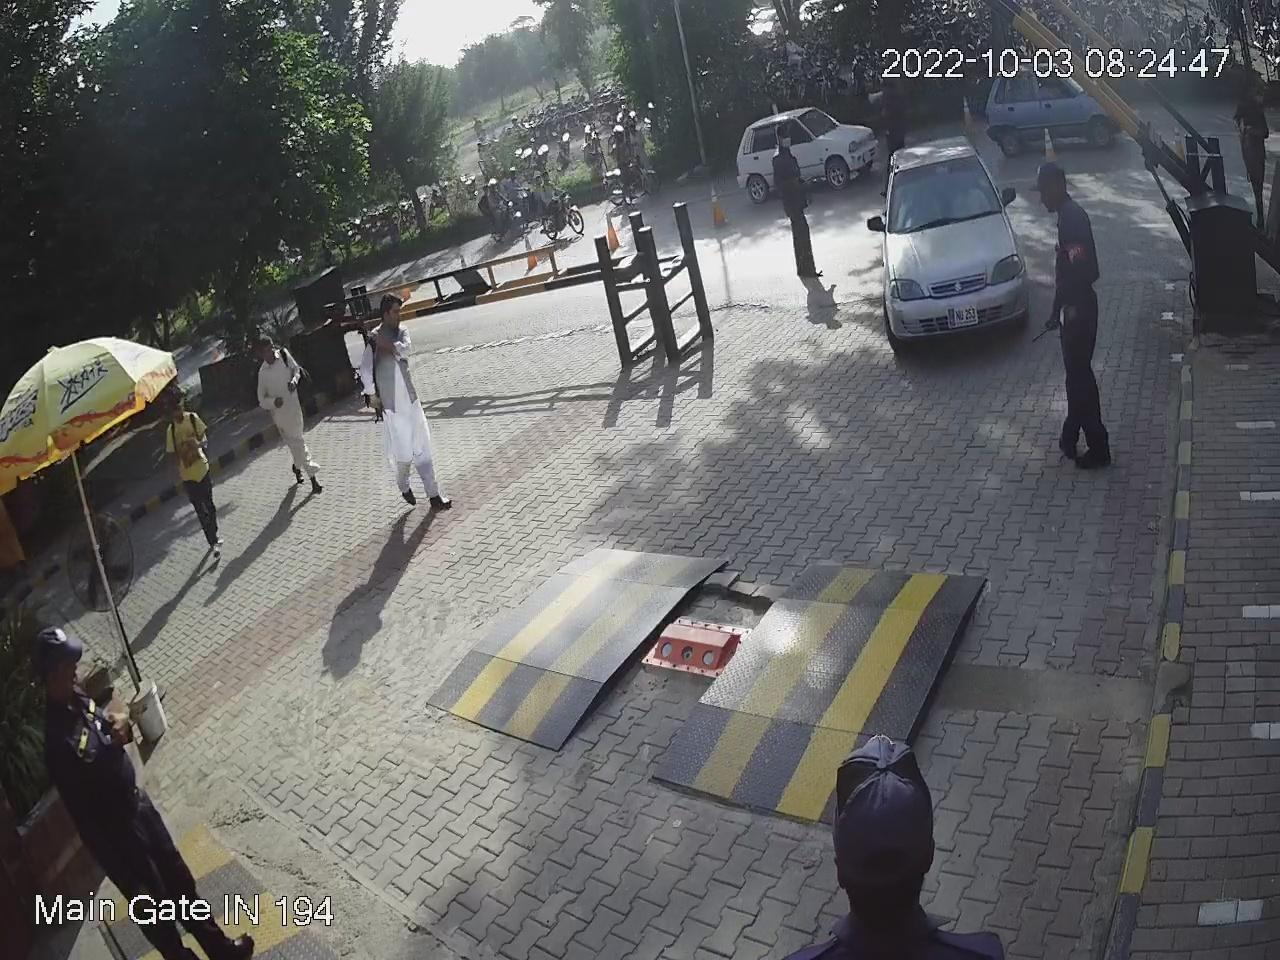windshield: (885, 155, 1005, 242)
